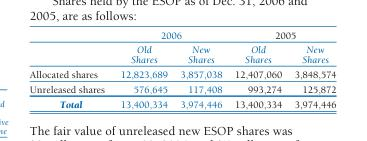table: (28, 29, 335, 109)
table column: (28, 29, 111, 109), (111, 29, 173, 109), (227, 29, 287, 109), (173, 29, 227, 109), (287, 29, 335, 109)
table column header: (28, 29, 335, 66)
table row: (28, 41, 335, 66), (28, 66, 335, 81), (28, 81, 335, 96), (28, 96, 335, 109), (28, 29, 335, 41)
table spanning cell: (111, 29, 227, 41), (227, 29, 335, 41)
